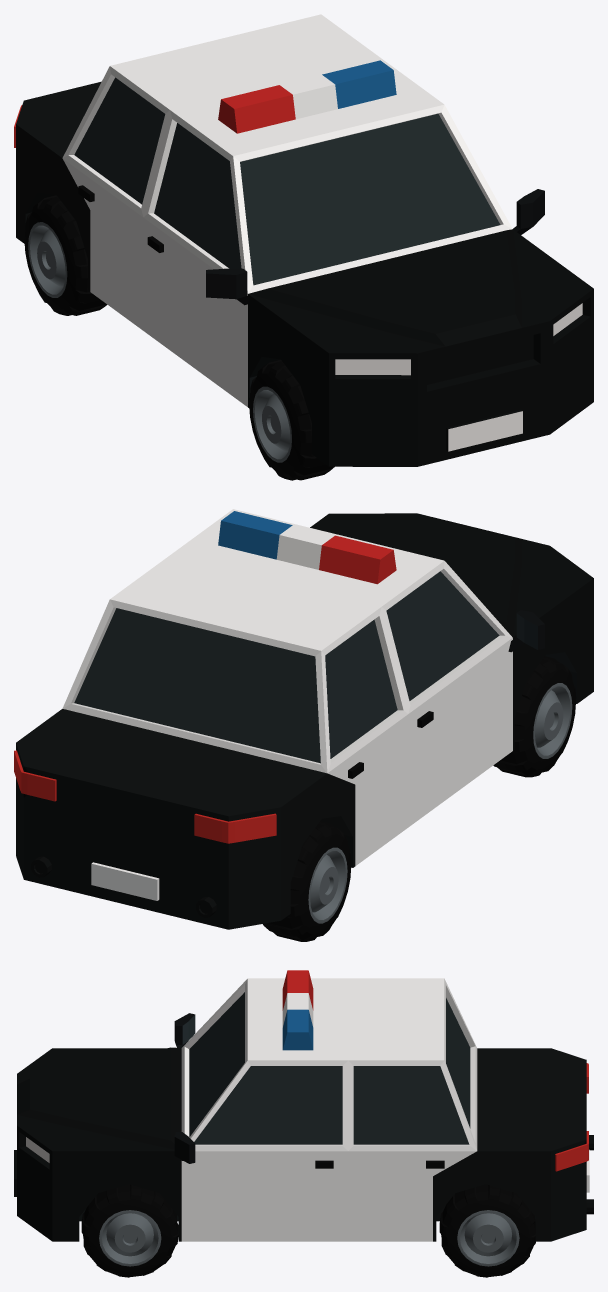
File: POLICIA.fbx
3 views of the same model, one above another, from view 1: azimuth 30°, elevation 25°; view 2: azimuth 150°, elevation 25°; view 3: azimuth 270°, elevation 25° (orthographic). The views are drawn at different scales.
Parts seen in each view (by area): view 1: FrontWheel_R.001; view 2: FrontWheel_R.001; view 3: FrontWheel_R.001.
Boxes of the visible parts, x1=… form: FrontWheel_R.001: x1=14, y1=14, x2=593, y2=480; FrontWheel_R.001: x1=14, y1=509, x2=593, y2=941; FrontWheel_R.001: x1=14, y1=970, x2=593, y2=1277.
Size of the model in its own units: 422 by 785 by 338.
2 materials, 2 textured.
